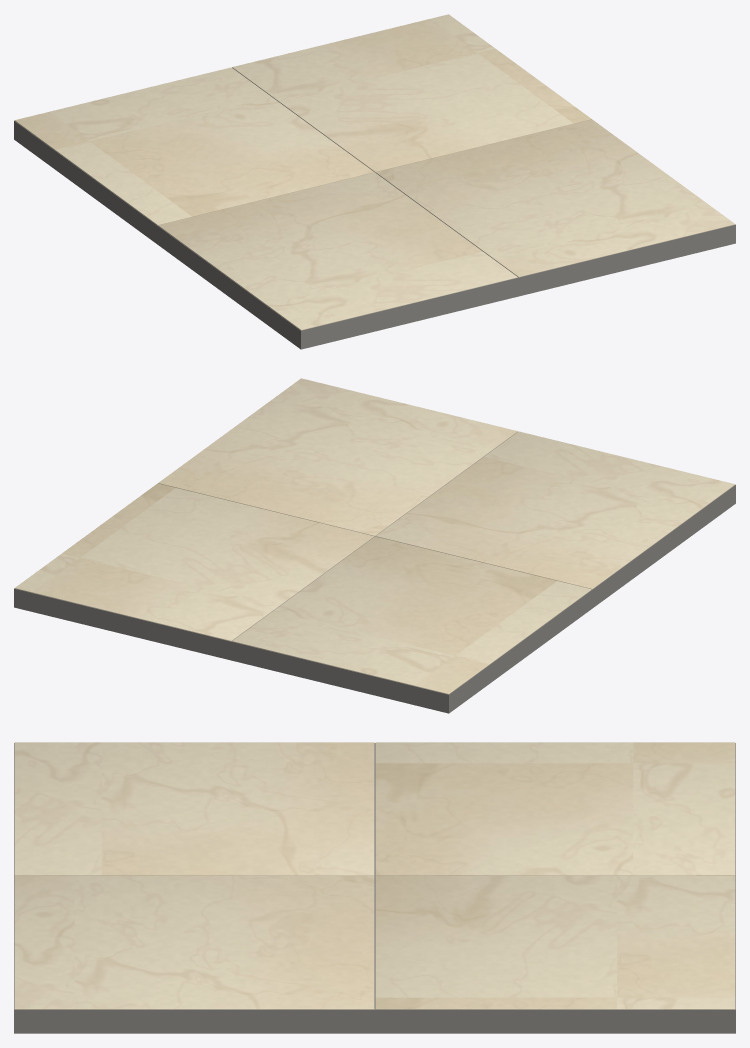
The model's file is floor_KA-DB037.glb.
3 renders of one model, top to bottom at view 1: azimuth 30°, elevation 25°; view 2: azimuth 150°, elevation 25°; view 3: azimuth 270°, elevation 25°, orthographic. The views are drawn at different scales.
Visible parts, largest first — view 1: Floor; view 2: Floor; view 3: Floor.
Part boxes in pixels (x1,y1,x2,y2): Floor: (14, 14, 735, 349); Floor: (14, 378, 735, 713); Floor: (14, 742, 735, 1033).
Bounding box in the file's own units: 1.4 × 0.06 × 1.6.
Materials: 2 (1 with a texture image).
